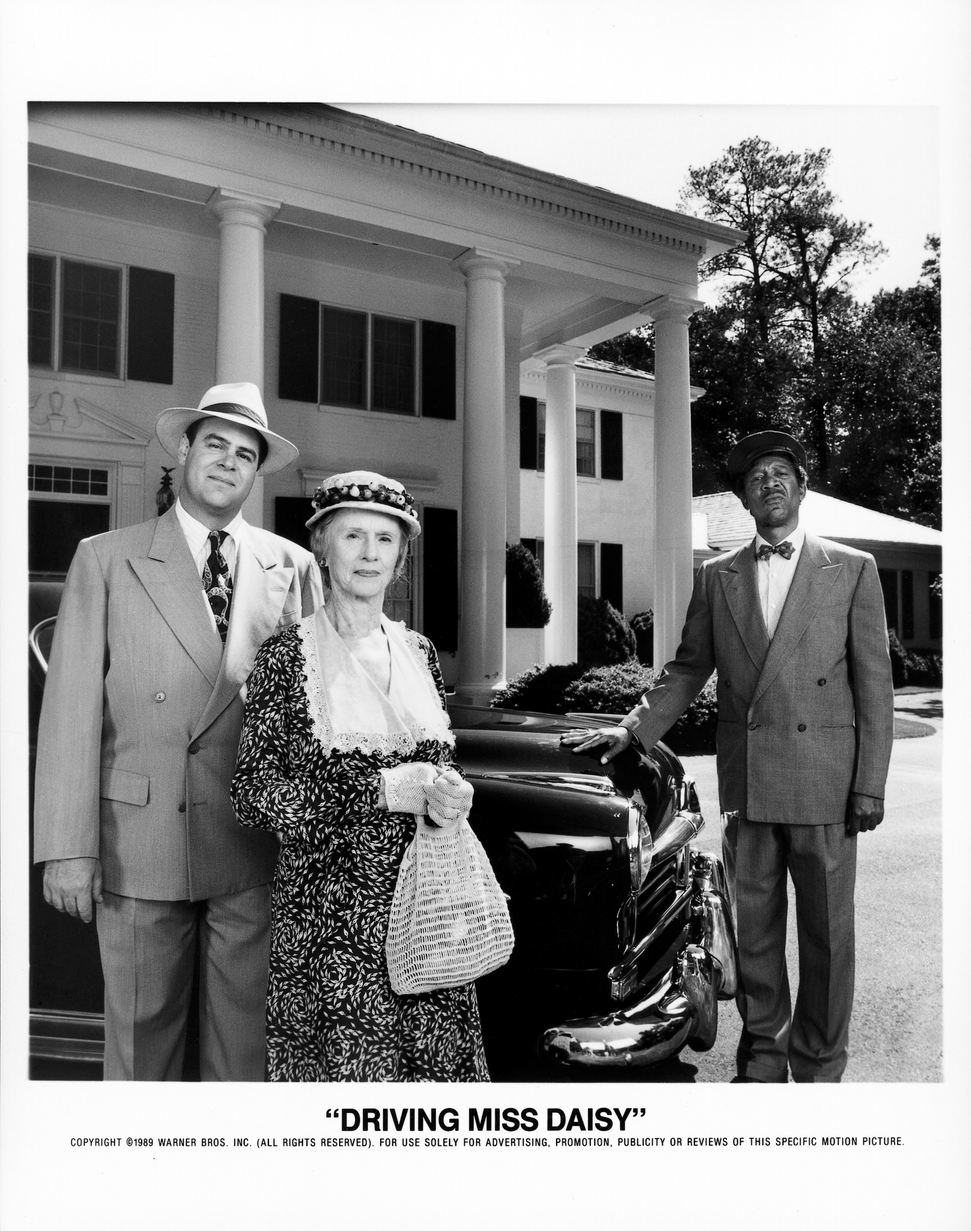42: (175, 404, 270, 521)
52: (735, 444, 806, 531)
57: (317, 493, 412, 609)
Bag: (386, 812, 517, 1000)
Coat: (40, 496, 328, 908), (617, 532, 895, 831)
Dress: (227, 606, 492, 1083)
EarRing: (318, 558, 327, 569)
Female: (317, 493, 412, 609)
Gloves: (376, 763, 476, 833)
Hat: (155, 381, 303, 479), (299, 469, 427, 543), (721, 428, 815, 493)
Male: (175, 404, 270, 521), (735, 444, 806, 531)
Pants: (718, 807, 863, 1082), (83, 875, 276, 1080)
Shirt: (744, 525, 811, 642), (173, 494, 245, 593)
Tie: (200, 528, 239, 647), (752, 539, 799, 561)
